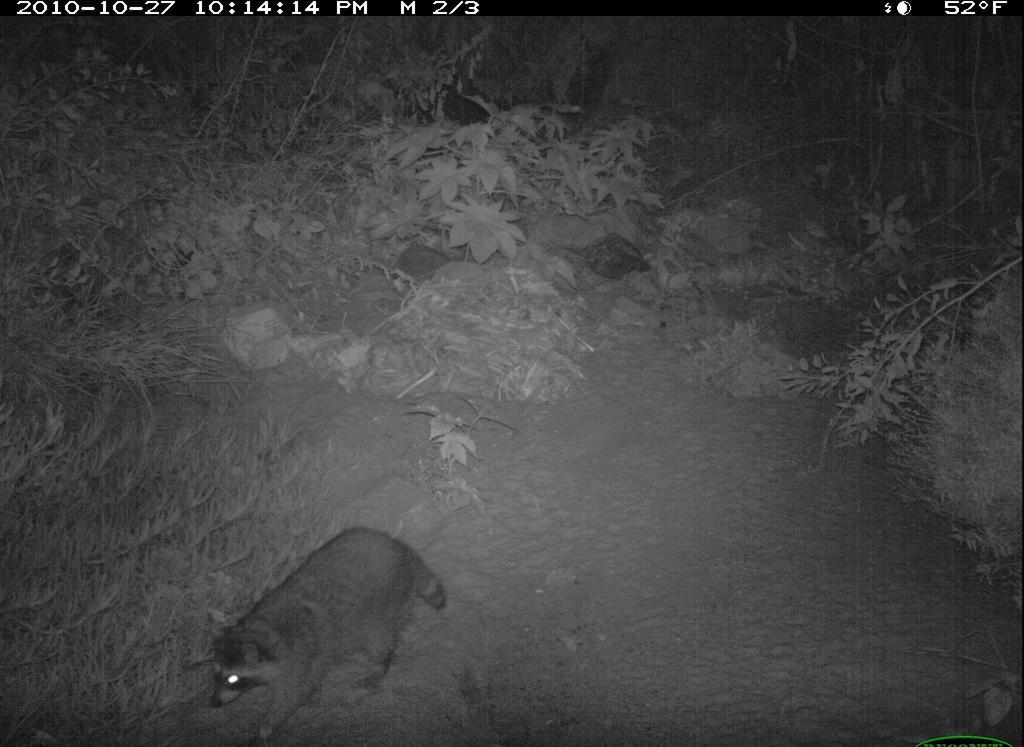raccoon: (203, 520, 457, 739)
